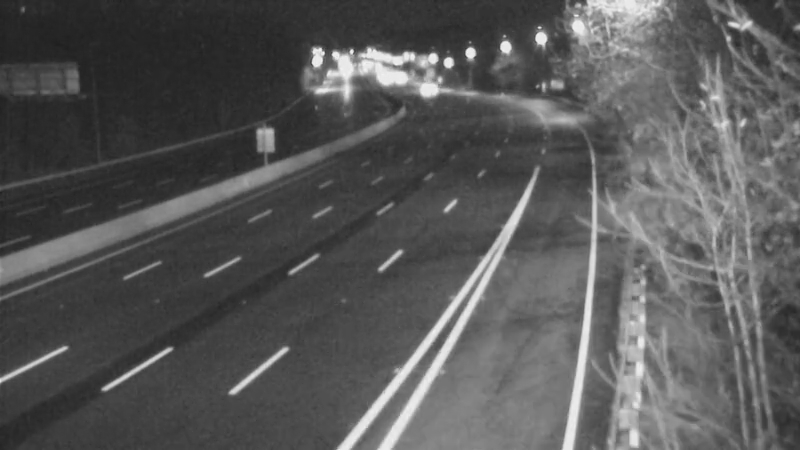vehicle: (373, 52, 423, 102), (400, 66, 450, 116)
